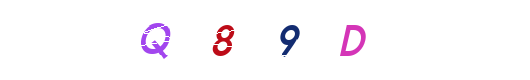8: (208, 0, 288, 80)
9: (225, 0, 305, 80)
D: (249, 0, 329, 80)
Q: (183, 0, 263, 80)
